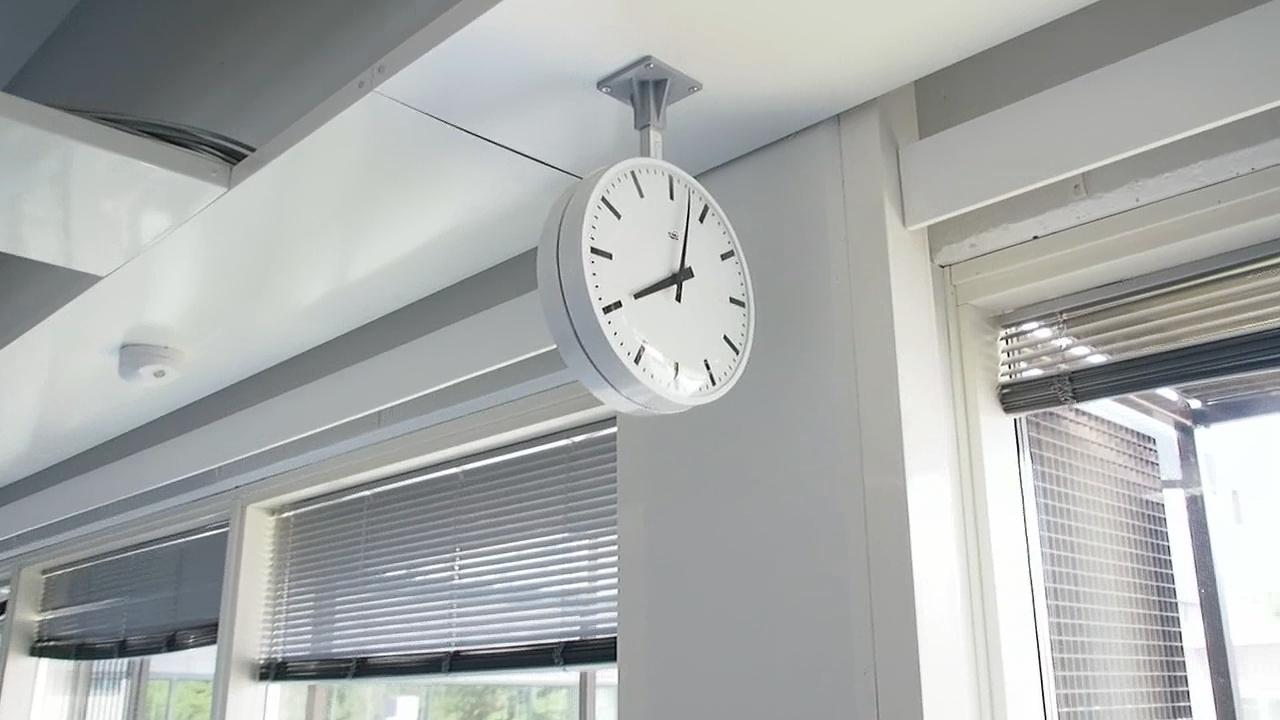clock: (564, 170, 754, 414)
